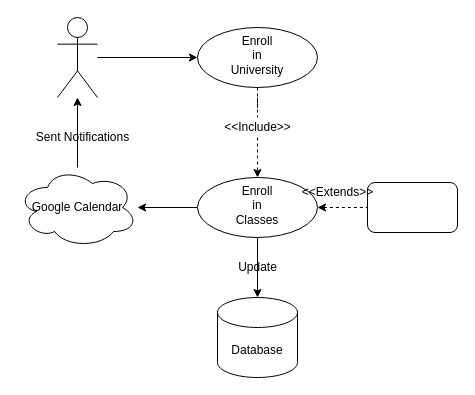
Image size: 475x395. Some labels were removed from this diagram. Each missing label, with the box of its shape:
Client: (56, 16, 98, 98)
Drop Out: (366, 182, 458, 232)
